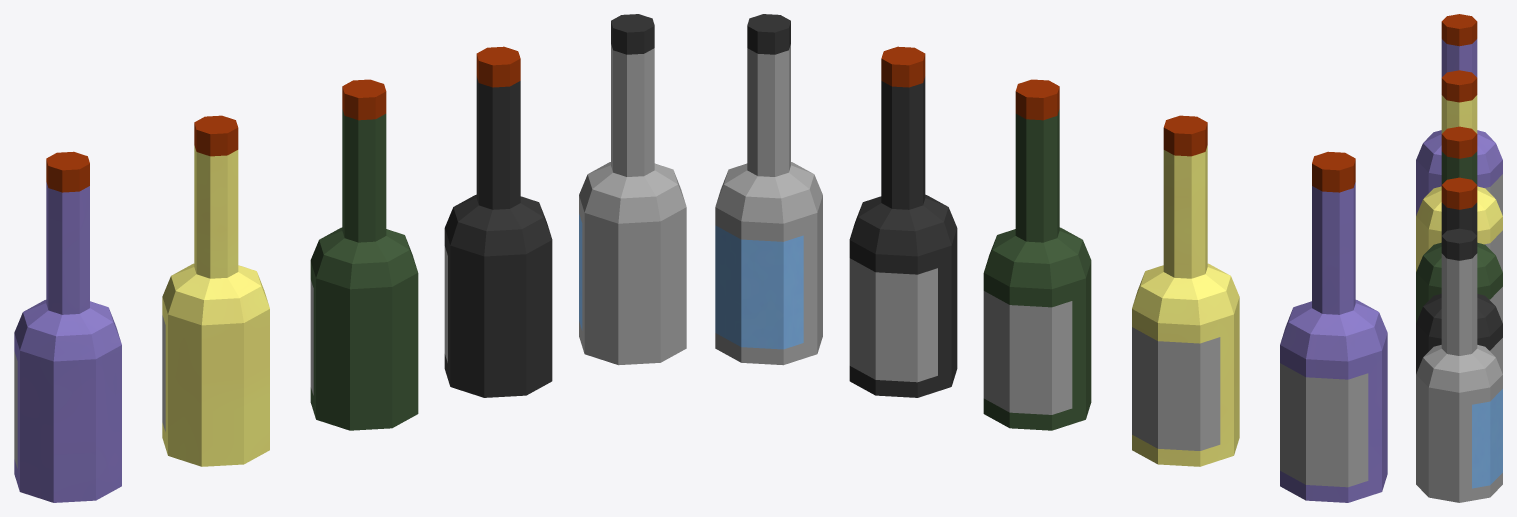
Rendered from bottle_3.FBX.
3 views of the same model, side by side, from view 1: azimuth 30°, elevation 25°; view 2: azimuth 150°, elevation 25°; view 3: azimuth 270°, elevation 25° (orthographic). The views are drawn at different scales.
Visible parts, largest first — view 1: bottle_3; view 2: bottle_3; view 3: bottle_3.
Part boxes in pixels (x1=…): bottle_3: x1=14, y1=14, x2=686, y2=502; bottle_3: x1=715, y1=14, x2=1387, y2=502; bottle_3: x1=1416, y1=14, x2=1502, y2=502.
Bounding box in the file's own units: 28.59 × 13.19 × 4.17.
